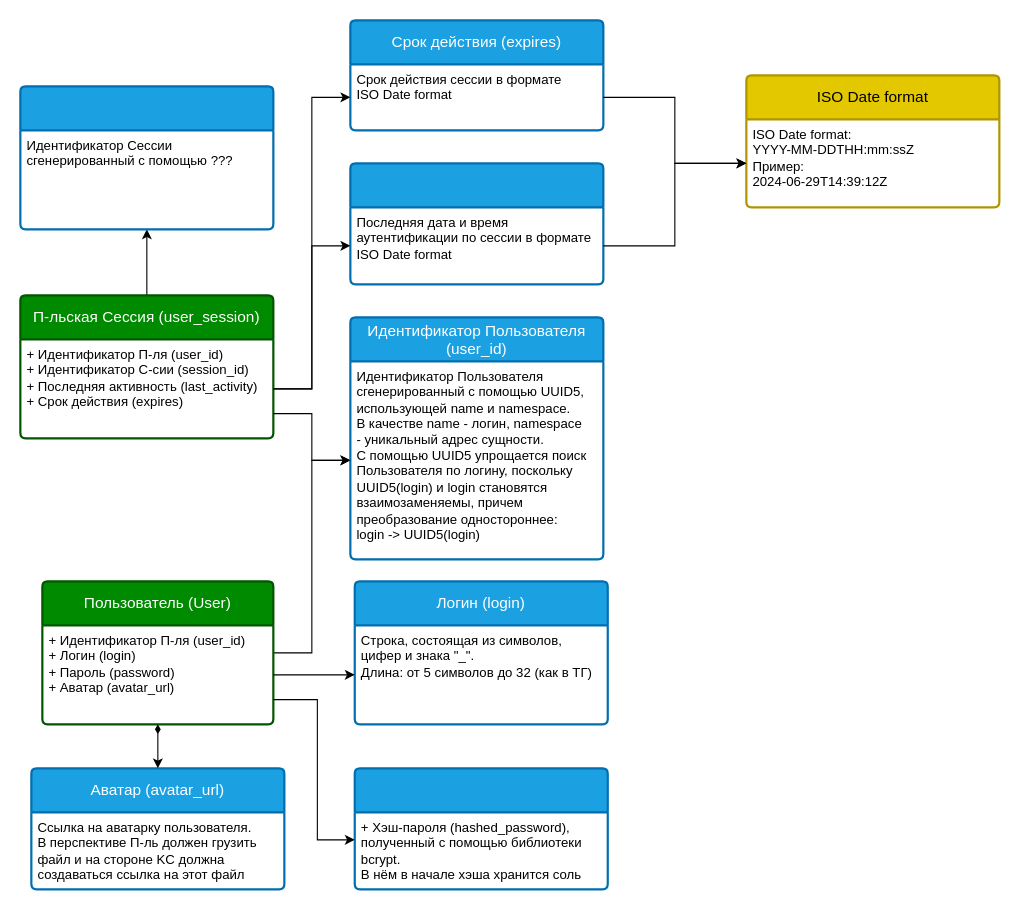
Some shapes in this 1019 by 909 pixel diagram are drawn without their labels. Here are the shapes that lost their labels. From the top down, the box of each, then its label:
(19, 85, 274, 230): Идентификатор Сессии (user_id)
(349, 162, 604, 285): Последняя активность (last_activity)
(353, 767, 608, 890): Пароль (password)
